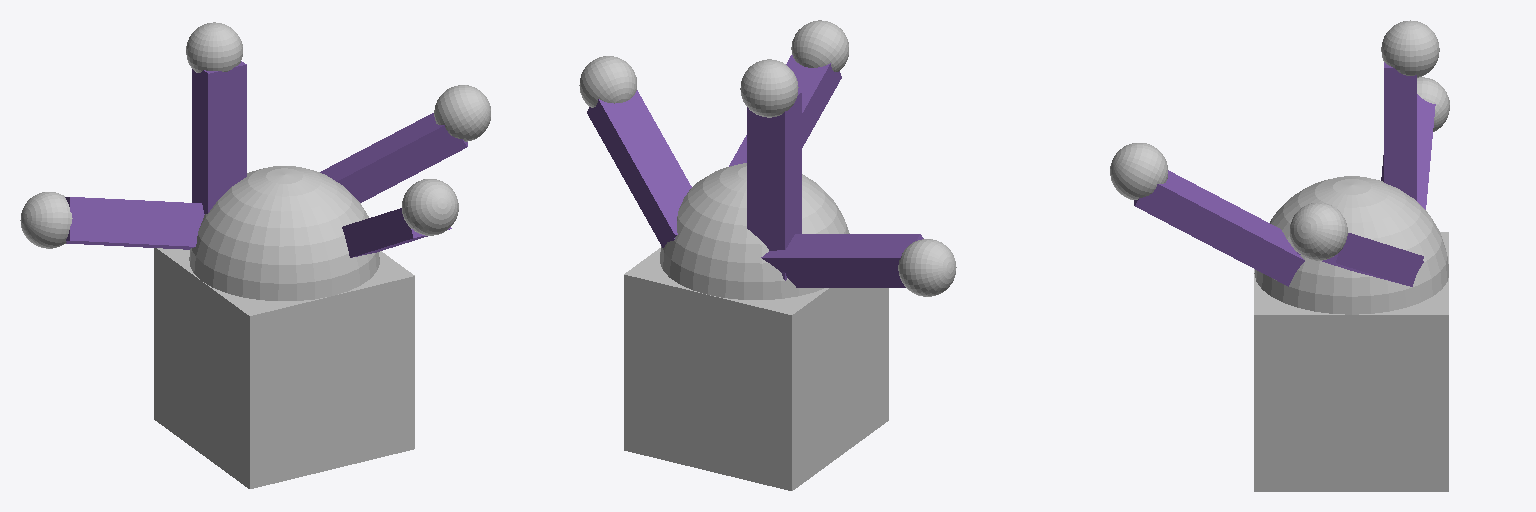
--- Facts derived from the render (not from the file) ---
3 views of the same robot in one strip: view 1: azimuth 30°, elevation 25°; view 2: azimuth 150°, elevation 25°; view 3: azimuth 270°, elevation 25° (orthographic).
Model hand_test with 51 links and 50 joints (40 revolute, 10 fixed), rooted at base_link, posed every joint at zero.
Visible links, largest first — view 1: base_link1, base_link0, Man0_tip, Man2_tip, Man3_tip, Man1_tip, Man1Act0Seg4, Man1Act0Seg6, Man1Act0Seg7, Man1Act0Seg8, Man1Act0Seg5, Man1Act0Seg9 (+14 smaller); view 2: base_link1, base_link0, Man3_tip, Man1_tip, Man2_tip, Man0_tip, Man1Act0Seg4, Man1Act0Seg6, Man1Act0Seg7, Man1Act0Seg3, Man1Act0Seg5, Man1Act0Seg8 (+20 smaller); view 3: base_link1, base_link0, Man2_tip, Man1_tip, Man0_tip, Man3_tip, Man0Act0Seg4, Man0Act0Seg6, Man0Act0Seg3, Man0Act0Seg5, Man0Act0Seg7, Man0Act0Seg8 (+8 smaller).
Link boxes in pixels (left/top/right/bottom): base_link1: left=154, top=248, right=414, bottom=488; base_link0: left=189, top=166, right=379, bottom=300; Man0_tip: left=402, top=179, right=458, bottom=235; Man2_tip: left=434, top=85, right=490, bottom=141; Man3_tip: left=20, top=192, right=72, bottom=248; Man1_tip: left=186, top=22, right=242, bottom=72; Man1Act0Seg4: left=192, top=157, right=246, bottom=185; Man1Act0Seg6: left=192, top=123, right=246, bottom=151; Man1Act0Seg7: left=192, top=105, right=246, bottom=133; Man1Act0Seg8: left=192, top=88, right=246, bottom=116; Man1Act0Seg5: left=192, top=140, right=246, bottom=168; Man1Act0Seg9: left=192, top=71, right=246, bottom=99; base_link1: left=624, top=248, right=888, bottom=490; base_link0: left=660, top=163, right=849, bottom=299; Man3_tip: left=898, top=239, right=956, bottom=296; Man1_tip: left=740, top=59, right=798, bottom=117; Man2_tip: left=579, top=56, right=636, bottom=107; Man0_tip: left=791, top=20, right=848, bottom=71; Man1Act0Seg4: left=747, top=190, right=801, bottom=218; Man1Act0Seg6: left=747, top=154, right=801, bottom=183; Man1Act0Seg7: left=747, top=137, right=801, bottom=165; Man1Act0Seg3: left=747, top=207, right=801, bottom=235; Man1Act0Seg5: left=747, top=172, right=801, bottom=200; Man1Act0Seg8: left=747, top=119, right=801, bottom=147; base_link1: left=1254, top=232, right=1448, bottom=491; base_link0: left=1254, top=176, right=1448, bottom=314; Man2_tip: left=1290, top=202, right=1347, bottom=260; Man1_tip: left=1381, top=20, right=1439, bottom=77; Man0_tip: left=1110, top=143, right=1167, bottom=199; Man3_tip: left=1417, top=77, right=1449, bottom=131; Man0Act0Seg4: left=1228, top=210, right=1260, bottom=262; Man0Act0Seg6: left=1194, top=192, right=1226, bottom=245; Man0Act0Seg3: left=1244, top=219, right=1277, bottom=271; Man0Act0Seg5: left=1211, top=201, right=1243, bottom=254; Man0Act0Seg7: left=1177, top=183, right=1209, bottom=236; Man0Act0Seg8: left=1160, top=175, right=1192, bottom=227.
Size in the robot's own frame: 4.99 by 3.49 by 4.6 metres.
Geometry: primitives only (box / cylinder / sphere), no mesh files.

robot.urdf — hand_test:
<?xml version='1.0' encoding='utf-8'?>
<robot name="hand_test">
  <link name="base_link" />
  <link name="base_link0">
    <visual>
      <origin rpy="0 0 0" xyz="0.5 0.5 1" />
      <geometry>
        <sphere radius="1" />
      </geometry>
      <material name="base_color">
        <color rgba="0.8 0.8 0.8 1" />
      </material>
    </visual>
    <collision>
      <origin rpy="0 0 0" xyz="0.5 0.5 1" />
      <geometry>
        <sphere radius="1" />
      </geometry>
    </collision>
    <inertial>
      <mass value="1.0" />
      <inertia ixx="1" ixy="0" ixz="0" iyy="1" iyz="0" izz="1" />
    </inertial>
  </link>
  <joint name="base_link_to_base_link0_fixed" type="fixed">
    <parent link="base_link" />
    <child link="base_link0" />
    <origin rpy="0 0 0" xyz="0 0 0" />
    <axis xyz="1 0 0" />
  </joint>
  <link name="base_link1">
    <visual>
      <origin rpy="0 0 0" xyz="0.5 0.5 0" />
      <geometry>
        <box size="2 2 2" />
      </geometry>
      <material name="base_color">
        <color rgba="0.8 0.8 0.8 1" />
      </material>
    </visual>
    <collision>
      <origin rpy="0 0 0" xyz="0.5 0.5 0" />
      <geometry>
        <box size="2 2 2" />
      </geometry>
    </collision>
    <inertial>
      <mass value="1.0" />
      <inertia ixx="1" ixy="0" ixz="0" iyy="1" iyz="0" izz="1" />
    </inertial>
  </link>
  <joint name="base_link_to_base_link1_fixed" type="fixed">
    <parent link="base_link" />
    <child link="base_link1" />
    <origin rpy="0 0 0" xyz="0 0 0" />
    <axis xyz="1 0 0" />
  </joint>
  <link name="Man0Act0Seg0">
    <visual>
      <origin rpy="1.0471975511965976 0.0 0.0" xyz="1.0 0.0 1.05" />
      <geometry>
        <box size="0.46 0.34 0.1" />
      </geometry>
      <material name="purple">
        <color rgba="0.537255 0.407843 0.690196 1.0" />
      </material>
    </visual>
    <collision>
      <origin rpy="1.0471975511965976 0.0 0.0" xyz="1.0 0.0 1.05" />
      <geometry>
        <box size="0.46 0.34 0.1" />
      </geometry>
    </collision>
    <inertial>
      <mass value="0.00294" />
      <inertia ixx="0.0152488" ixy="0" ixz="0" iyy="0.0152488" iyz="0" izz="0.0152488" />
    </inertial>
  </link>
  <joint name="base_link_to_Man0Act0Seg0" type="fixed">
    <parent link="base_link" />
    <child link="Man0Act0Seg0" />
    <origin rpy="0.0 0.0 0.0" xyz="0.0 0.0 0.19999999999999996" />
    <axis xyz="1 0 0" />
    <limit effort="100" lower="-3.141592" upper="3.141592" velocity="3" />
  </joint>
  <link name="Man0Act0Seg1">
    <visual>
      <origin rpy="0.0 0.0 0.0" xyz="0.0 0.0 0.1" />
      <geometry>
        <box size="0.46 0.34 0.2" />
      </geometry>
      <material name="purple">
        <color rgba="0.537255 0.407843 0.690196 1.0" />
      </material>
    </visual>
    <collision>
      <origin rpy="0.0 0.0 0.0" xyz="0.0 0.0 0.1" />
      <geometry>
        <box size="0.46 0.34 0.2" />
      </geometry>
    </collision>
    <inertial>
      <mass value="0.00294" />
      <inertia ixx="0.0152488" ixy="0" ixz="0" iyy="0.0152488" iyz="0" izz="0.0152488" />
    </inertial>
  </link>
  <joint name="Man0Act0Seg0_to_Man0Act0Seg1_ax0" type="revolute">
    <parent link="Man0Act0Seg0" />
    <child link="Man0Act0Seg1" />
    <origin rpy="1.0471975511965976 0.0 0.0" xyz="1.0 0.0 1.1" />
    <axis xyz="1 0 0" />
    <limit effort="100" lower="-3.141592" upper="3.141592" velocity="3" />
  </joint>
  <link name="Man0Act0Seg2">
    <visual>
      <origin rpy="0 0 0" xyz="0 0 0.1" />
      <geometry>
        <box size="0.46 0.34 0.2" />
      </geometry>
      <material name="purple">
        <color rgba="0.537255 0.407843 0.690196 1.0" />
      </material>
    </visual>
    <collision>
      <origin rpy="0 0 0" xyz="0 0 0.1" />
      <geometry>
        <box size="0.46 0.34 0.2" />
      </geometry>
    </collision>
    <inertial>
      <mass value="0.00294" />
      <inertia ixx="0.0152488" ixy="0" ixz="0" iyy="0.0152488" iyz="0" izz="0.0152488" />
    </inertial>
  </link>
  <joint name="Man0Act0Seg1_to_Man0Act0Seg2_ax1" type="revolute">
    <parent link="Man0Act0Seg1" />
    <child link="Man0Act0Seg2" />
    <origin rpy="0.0 0.0 0.0" xyz="0.0 0.0 0.2" />
    <axis xyz="0 1 0" />
    <limit effort="100" lower="-3.141592" upper="3.141592" velocity="3" />
  </joint>
  <link name="Man0Act0Seg3">
    <visual>
      <origin rpy="0.0 0.0 0.0" xyz="0.0 0.0 0.1" />
      <geometry>
        <box size="0.46 0.34 0.2" />
      </geometry>
      <material name="purple">
        <color rgba="0.537255 0.407843 0.690196 1.0" />
      </material>
    </visual>
    <collision>
      <origin rpy="0.0 0.0 0.0" xyz="0.0 0.0 0.1" />
      <geometry>
        <box size="0.46 0.34 0.2" />
      </geometry>
    </collision>
    <inertial>
      <mass value="0.00294" />
      <inertia ixx="0.0152488" ixy="0" ixz="0" iyy="0.0152488" iyz="0" izz="0.0152488" />
    </inertial>
  </link>
  <joint name="Man0Act0Seg2_to_Man0Act0Seg3_ax0" type="revolute">
    <parent link="Man0Act0Seg2" />
    <child link="Man0Act0Seg3" />
    <origin rpy="0.0 0.0 0.0" xyz="0.0 0.0 0.2" />
    <axis xyz="1 0 0" />
    <limit effort="100" lower="-3.141592" upper="3.141592" velocity="3" />
  </joint>
  <link name="Man0Act0Seg4">
    <visual>
      <origin rpy="0 0 0" xyz="0 0 0.1" />
      <geometry>
        <box size="0.46 0.34 0.2" />
      </geometry>
      <material name="purple">
        <color rgba="0.537255 0.407843 0.690196 1.0" />
      </material>
    </visual>
    <collision>
      <origin rpy="0 0 0" xyz="0 0 0.1" />
      <geometry>
        <box size="0.46 0.34 0.2" />
      </geometry>
    </collision>
    <inertial>
      <mass value="0.00294" />
      <inertia ixx="0.0152488" ixy="0" ixz="0" iyy="0.0152488" iyz="0" izz="0.0152488" />
    </inertial>
  </link>
  <joint name="Man0Act0Seg3_to_Man0Act0Seg4_ax1" type="revolute">
    <parent link="Man0Act0Seg3" />
    <child link="Man0Act0Seg4" />
    <origin rpy="0.0 0.0 0.0" xyz="0.0 0.0 0.2" />
    <axis xyz="0 1 0" />
    <limit effort="100" lower="-3.141592" upper="3.141592" velocity="3" />
  </joint>
  <link name="Man0Act0Seg5">
    <visual>
      <origin rpy="0.0 0.0 0.0" xyz="0.0 0.0 0.1" />
      <geometry>
        <box size="0.46 0.34 0.2" />
      </geometry>
      <material name="purple">
        <color rgba="0.537255 0.407843 0.690196 1.0" />
      </material>
    </visual>
    <collision>
      <origin rpy="0.0 0.0 0.0" xyz="0.0 0.0 0.1" />
      <geometry>
        <box size="0.46 0.34 0.2" />
      </geometry>
    </collision>
    <inertial>
      <mass value="0.00294" />
      <inertia ixx="0.0152488" ixy="0" ixz="0" iyy="0.0152488" iyz="0" izz="0.0152488" />
    </inertial>
  </link>
  <joint name="Man0Act0Seg4_to_Man0Act0Seg5_ax0" type="revolute">
    <parent link="Man0Act0Seg4" />
    <child link="Man0Act0Seg5" />
    <origin rpy="0.0 0.0 0.0" xyz="0.0 0.0 0.2" />
    <axis xyz="1 0 0" />
    <limit effort="100" lower="-3.141592" upper="3.141592" velocity="3" />
  </joint>
  <link name="Man0Act0Seg6">
    <visual>
      <origin rpy="0 0 0" xyz="0 0 0.1" />
      <geometry>
        <box size="0.46 0.34 0.2" />
      </geometry>
      <material name="purple">
        <color rgba="0.537255 0.407843 0.690196 1.0" />
      </material>
    </visual>
    <collision>
      <origin rpy="0 0 0" xyz="0 0 0.1" />
      <geometry>
        <box size="0.46 0.34 0.2" />
      </geometry>
    </collision>
    <inertial>
      <mass value="0.00294" />
      <inertia ixx="0.0152488" ixy="0" ixz="0" iyy="0.0152488" iyz="0" izz="0.0152488" />
    </inertial>
  </link>
  <joint name="Man0Act0Seg5_to_Man0Act0Seg6_ax1" type="revolute">
    <parent link="Man0Act0Seg5" />
    <child link="Man0Act0Seg6" />
    <origin rpy="0.0 0.0 0.0" xyz="0.0 0.0 0.2" />
    <axis xyz="0 1 0" />
    <limit effort="100" lower="-3.141592" upper="3.141592" velocity="3" />
  </joint>
  <link name="Man0Act0Seg7">
    <visual>
      <origin rpy="0.0 0.0 0.0" xyz="0.0 0.0 0.1" />
      <geometry>
        <box size="0.46 0.34 0.2" />
      </geometry>
      <material name="purple">
        <color rgba="0.537255 0.407843 0.690196 1.0" />
      </material>
    </visual>
    <collision>
      <origin rpy="0.0 0.0 0.0" xyz="0.0 0.0 0.1" />
      <geometry>
        <box size="0.46 0.34 0.2" />
      </geometry>
    </collision>
    <inertial>
      <mass value="0.00294" />
      <inertia ixx="0.0152488" ixy="0" ixz="0" iyy="0.0152488" iyz="0" izz="0.0152488" />
    </inertial>
  </link>
  <joint name="Man0Act0Seg6_to_Man0Act0Seg7_ax0" type="revolute">
    <parent link="Man0Act0Seg6" />
    <child link="Man0Act0Seg7" />
    <origin rpy="0.0 0.0 0.0" xyz="0.0 0.0 0.2" />
    <axis xyz="1 0 0" />
    <limit effort="100" lower="-3.141592" upper="3.141592" velocity="3" />
  </joint>
  <link name="Man0Act0Seg8">
    <visual>
      <origin rpy="0 0 0" xyz="0 0 0.1" />
      <geometry>
        <box size="0.46 0.34 0.2" />
      </geometry>
      <material name="purple">
        <color rgba="0.537255 0.407843 0.690196 1.0" />
      </material>
    </visual>
    <collision>
      <origin rpy="0 0 0" xyz="0 0 0.1" />
      <geometry>
        <box size="0.46 0.34 0.2" />
      </geometry>
    </collision>
    <inertial>
      <mass value="0.00294" />
      <inertia ixx="0.0152488" ixy="0" ixz="0" iyy="0.0152488" iyz="0" izz="0.0152488" />
    </inertial>
  </link>
  <joint name="Man0Act0Seg7_to_Man0Act0Seg8_ax1" type="revolute">
    <parent link="Man0Act0Seg7" />
    <child link="Man0Act0Seg8" />
    <origin rpy="0.0 0.0 0.0" xyz="0.0 0.0 0.2" />
    <axis xyz="0 1 0" />
    <limit effort="100" lower="-3.141592" upper="3.141592" velocity="3" />
  </joint>
  <link name="Man0Act0Seg9">
    <visual>
      <origin rpy="0.0 0.0 0.0" xyz="0.0 0.0 0.1" />
      <geometry>
        <box size="0.46 0.34 0.2" />
      </geometry>
      <material name="purple">
        <color rgba="0.537255 0.407843 0.690196 1.0" />
      </material>
    </visual>
    <collision>
      <origin rpy="0.0 0.0 0.0" xyz="0.0 0.0 0.1" />
      <geometry>
        <box size="0.46 0.34 0.2" />
      </geometry>
    </collision>
    <inertial>
      <mass value="0.00294" />
      <inertia ixx="0.0152488" ixy="0" ixz="0" iyy="0.0152488" iyz="0" izz="0.0152488" />
    </inertial>
  </link>
  <joint name="Man0Act0Seg8_to_Man0Act0Seg9_ax0" type="revolute">
    <parent link="Man0Act0Seg8" />
    <child link="Man0Act0Seg9" />
    <origin rpy="0.0 0.0 0.0" xyz="0.0 0.0 0.2" />
    <axis xyz="1 0 0" />
    <limit effort="100" lower="-3.141592" upper="3.141592" velocity="3" />
  </joint>
  <link name="Man0Act0Seg10">
    <visual>
      <origin rpy="0 0 0" xyz="0 0 0.05" />
      <geometry>
        <box size="0.46 0.34 0.1" />
      </geometry>
      <material name="purple">
        <color rgba="0.537255 0.407843 0.690196 1.0" />
      </material>
    </visual>
    <collision>
      <origin rpy="0 0 0" xyz="0 0 0.05" />
      <geometry>
        <box size="0.46 0.34 0.1" />
      </geometry>
    </collision>
    <inertial>
      <mass value="0.00294" />
      <inertia ixx="0.0152488" ixy="0" ixz="0" iyy="0.0152488" iyz="0" izz="0.0152488" />
    </inertial>
  </link>
  <joint name="Man0Act0Seg9_to_Man0Act0Seg10_ax1" type="revolute">
    <parent link="Man0Act0Seg9" />
    <child link="Man0Act0Seg10" />
    <origin rpy="0.0 0.0 0.0" xyz="0.0 0.0 0.2" />
    <axis xyz="0 1 0" />
    <limit effort="100" lower="-3.141592" upper="3.141592" velocity="3" />
  </joint>
  <link name="Man0_tip">
    <visual>
      <origin rpy="0 0 0" xyz="0 0.1 0.09999999999999998" />
      <geometry>
        <sphere radius="0.3" />
      </geometry>
      <material name="white">
        <color rgba="0.8 0.8 0.8 1.0" />
      </material>
    </visual>
    <collision>
      <origin rpy="0 0 0" xyz="0 0.1 0.09999999999999998" />
      <geometry>
        <sphere radius="0.3" />
      </geometry>
    </collision>
    <inertial>
      <mass value="0.015" />
      <inertia ixx="0.10944" ixy="0" ixz="0" iyy="0.10944" iyz="0" izz="0.10944" />
    </inertial>
  </link>
  <joint name="Man0Act0Seg10_to_Man0_tip" type="fixed">
    <parent link="Man0Act0Seg10" />
    <child link="Man0_tip" />
    <origin rpy="0 0 0" xyz="0 0 0.1" />
    <axis xyz="1 0 0" />
  </joint>
  <link name="Man1Act0Seg0">
    <visual>
      <origin rpy="0.0 0.0 0.0" xyz="0.0 1.0 1.05" />
      <geometry>
        <box size="0.46 0.34 0.1" />
      </geometry>
      <material name="purple">
        <color rgba="0.537255 0.407843 0.690196 1.0" />
      </material>
    </visual>
    <collision>
      <origin rpy="0.0 0.0 0.0" xyz="0.0 1.0 1.05" />
      <geometry>
        <box size="0.46 0.34 0.1" />
      </geometry>
    </collision>
    <inertial>
      <mass value="0.00294" />
      <inertia ixx="0.0152488" ixy="0" ixz="0" iyy="0.0152488" iyz="0" izz="0.0152488" />
    </inertial>
  </link>
  <joint name="base_link_to_Man1Act0Seg0" type="fixed">
    <parent link="base_link" />
    <child link="Man1Act0Seg0" />
    <origin rpy="0.0 0.0 0.0" xyz="0.0 0.0 0.19999999999999996" />
    <axis xyz="1 0 0" />
    <limit effort="100" lower="-3.141592" upper="3.141592" velocity="3" />
  </joint>
  <link name="Man1Act0Seg1">
    <visual>
      <origin rpy="0.0 0.0 0.0" xyz="0.0 0.0 0.1" />
      <geometry>
        <box size="0.46 0.34 0.2" />
      </geometry>
      <material name="purple">
        <color rgba="0.537255 0.407843 0.690196 1.0" />
      </material>
    </visual>
    <collision>
      <origin rpy="0.0 0.0 0.0" xyz="0.0 0.0 0.1" />
      <geometry>
        <box size="0.46 0.34 0.2" />
      </geometry>
    </collision>
    <inertial>
      <mass value="0.00294" />
      <inertia ixx="0.0152488" ixy="0" ixz="0" iyy="0.0152488" iyz="0" izz="0.0152488" />
    </inertial>
  </link>
  <joint name="Man1Act0Seg0_to_Man1Act0Seg1_ax0" type="revolute">
    <parent link="Man1Act0Seg0" />
    <child link="Man1Act0Seg1" />
    <origin rpy="0.0 0.0 0.0" xyz="0.0 1.0 1.1" />
    <axis xyz="1 0 0" />
    <limit effort="100" lower="-3.141592" upper="3.141592" velocity="3" />
  </joint>
  <link name="Man1Act0Seg2">
    <visual>
      <origin rpy="0 0 0" xyz="0 0 0.1" />
      <geometry>
        <box size="0.46 0.34 0.2" />
      </geometry>
      <material name="purple">
        <color rgba="0.537255 0.407843 0.690196 1.0" />
      </material>
    </visual>
    <collision>
      <origin rpy="0 0 0" xyz="0 0 0.1" />
      <geometry>
        <box size="0.46 0.34 0.2" />
      </geometry>
    </collision>
    <inertial>
      <mass value="0.00294" />
      <inertia ixx="0.0152488" ixy="0" ixz="0" iyy="0.0152488" iyz="0" izz="0.0152488" />
    </inertial>
  </link>
  <joint name="Man1Act0Seg1_to_Man1Act0Seg2_ax1" type="revolute">
    <parent link="Man1Act0Seg1" />
    <child link="Man1Act0Seg2" />
    <origin rpy="0.0 0.0 0.0" xyz="0.0 0.0 0.2" />
    <axis xyz="0 1 0" />
    <limit effort="100" lower="-3.141592" upper="3.141592" velocity="3" />
  </joint>
  <link name="Man1Act0Seg3">
    <visual>
      <origin rpy="0.0 0.0 0.0" xyz="0.0 0.0 0.1" />
      <geometry>
        <box size="0.46 0.34 0.2" />
      </geometry>
      <material name="purple">
        <color rgba="0.537255 0.407843 0.690196 1.0" />
      </material>
    </visual>
    <collision>
      <origin rpy="0.0 0.0 0.0" xyz="0.0 0.0 0.1" />
      <geometry>
        <box size="0.46 0.34 0.2" />
      </geometry>
    </collision>
    <inertial>
      <mass value="0.00294" />
      <inertia ixx="0.0152488" ixy="0" ixz="0" iyy="0.0152488" iyz="0" izz="0.0152488" />
    </inertial>
  </link>
  <joint name="Man1Act0Seg2_to_Man1Act0Seg3_ax0" type="revolute">
    <parent link="Man1Act0Seg2" />
    <child link="Man1Act0Seg3" />
    <origin rpy="0.0 0.0 0.0" xyz="0.0 0.0 0.2" />
    <axis xyz="1 0 0" />
    <limit effort="100" lower="-3.141592" upper="3.141592" velocity="3" />
  </joint>
  <link name="Man1Act0Seg4">
    <visual>
      <origin rpy="0 0 0" xyz="0 0 0.1" />
      <geometry>
        <box size="0.46 0.34 0.2" />
      </geometry>
      <material name="purple">
        <color rgba="0.537255 0.407843 0.690196 1.0" />
      </material>
    </visual>
    <collision>
      <origin rpy="0 0 0" xyz="0 0 0.1" />
      <geometry>
        <box size="0.46 0.34 0.2" />
      </geometry>
    </collision>
    <inertial>
      <mass value="0.00294" />
      <inertia ixx="0.0152488" ixy="0" ixz="0" iyy="0.0152488" iyz="0" izz="0.0152488" />
    </inertial>
  </link>
  <joint name="Man1Act0Seg3_to_Man1Act0Seg4_ax1" type="revolute">
    <parent link="Man1Act0Seg3" />
    <child link="Man1Act0Seg4" />
    <origin rpy="0.0 0.0 0.0" xyz="0.0 0.0 0.2" />
    <axis xyz="0 1 0" />
    <limit effort="100" lower="-3.141592" upper="3.141592" velocity="3" />
  </joint>
  <link name="Man1Act0Seg5">
    <visual>
      <origin rpy="0.0 0.0 0.0" xyz="0.0 0.0 0.1" />
      <geometry>
        <box size="0.46 0.34 0.2" />
      </geometry>
      <material name="purple">
        <color rgba="0.537255 0.407843 0.690196 1.0" />
      </material>
    </visual>
    <collision>
      <origin rpy="0.0 0.0 0.0" xyz="0.0 0.0 0.1" />
      <geometry>
        <box size="0.46 0.34 0.2" />
      </geometry>
    </collision>
    <inertial>
      <mass value="0.00294" />
      <inertia ixx="0.0152488" ixy="0" ixz="0" iyy="0.0152488" iyz="0" izz="0.0152488" />
    </inertial>
  </link>
  <joint name="Man1Act0Seg4_to_Man1Act0Seg5_ax0" type="revolute">
    <parent link="Man1Act0Seg4" />
    <child link="Man1Act0Seg5" />
    <origin rpy="0.0 0.0 0.0" xyz="0.0 0.0 0.2" />
    <axis xyz="1 0 0" />
    <limit effort="100" lower="-3.141592" upper="3.141592" velocity="3" />
  </joint>
  <link name="Man1Act0Seg6">
    <visual>
      <origin rpy="0 0 0" xyz="0 0 0.1" />
      <geometry>
        <box size="0.46 0.34 0.2" />
      </geometry>
      <material name="purple">
        <color rgba="0.537255 0.407843 0.690196 1.0" />
      </material>
    </visual>
    <collision>
      <origin rpy="0 0 0" xyz="0 0 0.1" />
      <geometry>
        <box size="0.46 0.34 0.2" />
      </geometry>
    </collision>
    <inertial>
      <mass value="0.00294" />
      <inertia ixx="0.0152488" ixy="0" ixz="0" iyy="0.0152488" iyz="0" izz="0.0152488" />
    </inertial>
  </link>
  <joint name="Man1Act0Seg5_to_Man1Act0Seg6_ax1" type="revolute">
    <parent link="Man1Act0Seg5" />
    <child link="Man1Act0Seg6" />
    <origin rpy="0.0 0.0 0.0" xyz="0.0 0.0 0.2" />
    <axis xyz="0 1 0" />
    <limit effort="100" lower="-3.141592" upper="3.141592" velocity="3" />
  </joint>
  <link name="Man1Act0Seg7">
    <visual>
      <origin rpy="0.0 0.0 0.0" xyz="0.0 0.0 0.1" />
      <geometry>
        <box size="0.46 0.34 0.2" />
      </geometry>
      <material name="purple">
        <color rgba="0.537255 0.407843 0.690196 1.0" />
      </material>
    </visual>
    <collision>
      <origin rpy="0.0 0.0 0.0" xyz="0.0 0.0 0.1" />
      <geometry>
        <box size="0.46 0.34 0.2" />
      </geometry>
    </collision>
    <inertial>
      <mass value="0.00294" />
      <inertia ixx="0.0152488" ixy="0" ixz="0" iyy="0.0152488" iyz="0" izz="0.0152488" />
    </inertial>
  </link>
  <joint name="Man1Act0Seg6_to_Man1Act0Seg7_ax0" type="revolute">
    <parent link="Man1Act0Seg6" />
    <child link="Man1Act0Seg7" />
    <origin rpy="0.0 0.0 0.0" xyz="0.0 0.0 0.2" />
    <axis xyz="1 0 0" />
    <limit effort="100" lower="-3.141592" upper="3.141592" velocity="3" />
  </joint>
  <link name="Man1Act0Seg8">
    <visual>
      <origin rpy="0 0 0" xyz="0 0 0.1" />
      <geometry>
        <box size="0.46 0.34 0.2" />
      </geometry>
      <material name="purple">
        <color rgba="0.537255 0.407843 0.690196 1.0" />
      </material>
    </visual>
    <collision>
      <origin rpy="0 0 0" xyz="0 0 0.1" />
      <geometry>
        <box size="0.46 0.34 0.2" />
      </geometry>
    </collision>
    <inertial>
      <mass value="0.00294" />
      <inertia ixx="0.0152488" ixy="0" ixz="0" iyy="0.0152488" iyz="0" izz="0.0152488" />
    </inertial>
  </link>
  <joint name="Man1Act0Seg7_to_Man1Act0Seg8_ax1" type="revolute">
    <parent link="Man1Act0Seg7" />
    <child link="Man1Act0Seg8" />
    <origin rpy="0.0 0.0 0.0" xyz="0.0 0.0 0.2" />
    <axis xyz="0 1 0" />
    <limit effort="100" lower="-3.141592" upper="3.141592" velocity="3" />
  </joint>
  <link name="Man1Act0Seg9">
    <visual>
      <origin rpy="0.0 0.0 0.0" xyz="0.0 0.0 0.1" />
      <geometry>
        <box size="0.46 0.34 0.2" />
      </geometry>
      <material name="purple">
        <color rgba="0.537255 0.407843 0.690196 1.0" />
      </material>
    </visual>
    <collision>
      <origin rpy="0.0 0.0 0.0" xyz="0.0 0.0 0.1" />
      <geometry>
        <box size="0.46 0.34 0.2" />
      </geometry>
    </collision>
    <inertial>
      <mass value="0.00294" />
      <inertia ixx="0.0152488" ixy="0" ixz="0" iyy="0.0152488" iyz="0" izz="0.0152488" />
    </inertial>
  </link>
  <joint name="Man1Act0Seg8_to_Man1Act0Seg9_ax0" type="revolute">
    <parent link="Man1Act0Seg8" />
    <child link="Man1Act0Seg9" />
    <origin rpy="0.0 0.0 0.0" xyz="0.0 0.0 0.2" />
    <axis xyz="1 0 0" />
    <limit effort="100" lower="-3.141592" upper="3.141592" velocity="3" />
  </joint>
  <link name="Man1Act0Seg10">
    <visual>
      <origin rpy="0 0 0" xyz="0 0 0.05" />
      <geometry>
        <box size="0.46 0.34 0.1" />
      </geometry>
      <material name="purple">
        <color rgba="0.537255 0.407843 0.690196 1.0" />
      </material>
    </visual>
    <collision>
      <origin rpy="0 0 0" xyz="0 0 0.05" />
      <geometry>
        <box size="0.46 0.34 0.1" />
      </geometry>
    </collision>
    <inertial>
      <mass value="0.00294" />
      <inertia ixx="0.0152488" ixy="0" ixz="0" iyy="0.0152488" iyz="0" izz="0.0152488" />
    </inertial>
  </link>
  <joint name="Man1Act0Seg9_to_Man1Act0Seg10_ax1" type="revolute">
    <parent link="Man1Act0Seg9" />
    <child link="Man1Act0Seg10" />
    <origin rpy="0.0 0.0 0.0" xyz="0.0 0.0 0.2" />
    <axis xyz="0 1 0" />
    <limit effort="100" lower="-3.141592" upper="3.141592" velocity="3" />
  </joint>
  <link name="Man1_tip">
    <visual>
      <origin rpy="0 0 0" xyz="0 0.1 0.09999999999999998" />
      <geometry>
        <sphere radius="0.3" />
      </geometry>
      <material name="white">
        <color rgba="0.8 0.8 0.8 1.0" />
      </material>
    </visual>
    <collision>
      <origin rpy="0 0 0" xyz="0 0.1 0.09999999999999998" />
      <geometry>
        <sphere radius="0.3" />
      </geometry>
    </collision>
    <inertial>
      <mass value="0.015" />
      <inertia ixx="0.10944" ixy="0" ixz="0" iyy="0.10944" iyz="0" izz="0.10944" />
    </inertial>
  </link>
  <joint name="Man1Act0Seg10_to_Man1_tip" type="fixed">
    <parent link="Man1Act0Seg10" />
    <child link="Man1_tip" />
    <origin rpy="0 0 0" xyz="0 0 0.1" />
    <axis xyz="1 0 0" />
  </joint>
  <link name="Man2Act0Seg0">
    <visual>
      <origin rpy="1.0471975511965976 0.0 1.0471975511965976" xyz="1.0 1.0 1.05" />
      <geometry>
        <box size="0.46 0.34 0.1" />
      </geometry>
      <material name="purple">
        <color rgba="0.537255 0.407843 0.690196 1.0" />
      </material>
    </visual>
    <collision>
      <origin rpy="1.0471975511965976 0.0 1.0471975511965976" xyz="1.0 1.0 1.05" />
      <geometry>
        <box size="0.46 0.34 0.1" />
      </geometry>
    </collision>
    <inertial>
      <mass value="0.00294" />
      <inertia ixx="0.0152488" ixy="0" ixz="0" iyy="0.0152488" iyz="0" izz="0.0152488" />
    </inertial>
  </link>
  <joint name="base_link_to_Man2Act0Seg0" type="fixed">
    <parent link="base_link" />
    <child link="Man2Act0Seg0" />
    <origin rpy="0.0 0.0 0.0" xyz="0.0 0.0 0.19999999999999996" />
    <axis xyz="1 0 0" />
    <limit effort="100" lower="-3.141592" upper="3.141592" velocity="3" />
  </joint>
  <link name="Man2Act0Seg1">
    <visual>
      <origin rpy="0.0 0.0 0.0" xyz="0.0 0.0 0.1" />
      <geometry>
        <box size="0.46 0.34 0.2" />
      </geometry>
      <material name="purple">
        <color rgba="0.537255 0.407843 0.690196 1.0" />
      </material>
    </visual>
    <collision>
      <origin rpy="0.0 0.0 0.0" xyz="0.0 0.0 0.1" />
      <geometry>
        <box size="0.46 0.34 0.2" />
      </geometry>
    </collision>
    <inertial>
      <mass value="0.00294" />
      <inertia ixx="0.0152488" ixy="0" ixz="0" iyy="0.0152488" iyz="0" izz="0.0152488" />
    </inertial>
  </link>
  <joint name="Man2Act0Seg0_to_Man2Act0Seg1_ax0" type="revolute">
    <parent link="Man2Act0Seg0" />
    <child link="Man2Act0Seg1" />
    <origin rpy="1.0471975511965976 0.0 1.0471975511965976" xyz="1.0 1.0 1.1" />
    <axis xyz="1 0 0" />
    <limit effort="100" lower="-3.141592" upper="3.141592" velocity="3" />
  </joint>
  <link name="Man2Act0Seg2">
    <visual>
      <origin rpy="0 0 0" xyz="0 0 0.1" />
      <geometry>
        <box size="0.46 0.34 0.2" />
      </geometry>
      <material name="purple">
        <color rgba="0.537255 0.407843 0.690196 1.0" />
      </material>
    </visual>
    <collision>
      <origin rpy="0 0 0" xyz="0 0 0.1" />
      <geometry>
        <box size="0.46 0.34 0.2" />
      </geometry>
    </collision>
    <inertial>
      <mass value="0.00294" />
      <inertia ixx="0.0152488" ixy="0" ixz="0" iyy="0.0152488" iyz="0" izz="0.0152488" />
    </inertial>
  </link>
  <joint name="Man2Act0Seg1_to_Man2Act0Seg2_ax1" type="revolute">
    <parent link="Man2Act0Seg1" />
    <child link="Man2Act0Seg2" />
    <origin rpy="0.0 0.0 0.0" xyz="0.0 0.0 0.2" />
    <axis xyz="0 1 0" />
    <limit effort="100" lower="-3.141592" upper="3.141592" velocity="3" />
  </joint>
  <link name="Man2Act0Seg3">
    <visual>
      <origin rpy="0.0 0.0 0.0" xyz="0.0 0.0 0.1" />
      <geometry>
        <box size="0.46 0.34 0.2" />
      </geometry>
      <material name="purple">
        <color rgba="0.537255 0.407843 0.690196 1.0" />
      </material>
    </visual>
    <collision>
      <origin rpy="0.0 0.0 0.0" xyz="0.0 0.0 0.1" />
      <geometry>
        <box size="0.46 0.34 0.2" />
      </geometry>
    </collision>
    <inertial>
      <mass value="0.00294" />
      <inertia ixx="0.0152488" ixy="0" ixz="0" iyy="0.0152488" iyz="0" izz="0.0152488" />
    </inertial>
  </link>
  <joint name="Man2Act0Seg2_to_Man2Act0Seg3_ax0" type="revolute">
    <parent link="Man2Act0Seg2" />
    <child link="Man2Act0Seg3" />
    <origin rpy="0.0 0.0 0.0" xyz="0.0 0.0 0.2" />
    <axis xyz="1 0 0" />
    <limit effort="100" lower="-3.141592" upper="3.141592" velocity="3" />
  </joint>
  <link name="Man2Act0Seg4">
    <visual>
      <origin rpy="0 0 0" xyz="0 0 0.1" />
      <geometry>
        <box size="0.46 0.34 0.2" />
      </geometry>
      <material name="purple">
        <color rgba="0.537255 0.407843 0.690196 1.0" />
      </material>
    </visual>
    <collision>
      <origin rpy="0 0 0" xyz="0 0 0.1" />
      <geometry>
        <box size="0.46 0.34 0.2" />
      </geometry>
    </collision>
    <inertial>
      <mass value="0.00294" />
      <inertia ixx="0.0152488" ixy="0" ixz="0" iyy="0.0152488" iyz="0" izz="0.0152488" />
    </inertial>
  </link>
  <joint name="Man2Act0Seg3_to_Man2Act0Seg4_ax1" type="revolute">
    <parent link="Man2Act0Seg3" />
    <child link="Man2Act0Seg4" />
    <origin rpy="0.0 0.0 0.0" xyz="0.0 0.0 0.2" />
    <axis xyz="0 1 0" />
    <limit effort="100" lower="-3.141592" upper="3.141592" velocity="3" />
  </joint>
  <link name="Man2Act0Seg5">
    <visual>
      <origin rpy="0.0 0.0 0.0" xyz="0.0 0.0 0.1" />
      <geometry>
        <box size="0.46 0.34 0.2" />
      </geometry>
      <material name="purple">
        <color rgba="0.537255 0.407843 0.690196 1.0" />
      </material>
    </visual>
    <collision>
      <origin rpy="0.0 0.0 0.0" xyz="0.0 0.0 0.1" />
      <geometry>
        <box size="0.46 0.34 0.2" />
      </geometry>
    </collision>
    <inertial>
      <mass value="0.00294" />
      <inertia ixx="0.0152488" ixy="0" ixz="0" iyy="0.0152488" iyz="0" izz="0.0152488" />
    </inertial>
  </link>
  <joint name="Man2Act0Seg4_to_Man2Act0Seg5_ax0" type="revolute">
    <parent link="Man2Act0Seg4" />
    <child link="Man2Act0Seg5" />
    <origin rpy="0.0 0.0 0.0" xyz="0.0 0.0 0.2" />
    <axis xyz="1 0 0" />
    <limit effort="100" lower="-3.141592" upper="3.141592" velocity="3" />
  </joint>
  <link name="Man2Act0Seg6">
    <visual>
      <origin rpy="0 0 0" xyz="0 0 0.1" />
      <geometry>
        <box size="0.46 0.34 0.2" />
      </geometry>
      <material name="purple">
        <color rgba="0.537255 0.407843 0.690196 1.0" />
      </material>
    </visual>
    <collision>
      <origin rpy="0 0 0" xyz="0 0 0.1" />
      <geometry>
        <box size="0.46 0.34 0.2" />
      </geometry>
    </collision>
    <inertial>
      <mass value="0.00294" />
      <inertia ixx="0.0152488" ixy="0" ixz="0" iyy="0.0152488" iyz="0" izz="0.0152488" />
    </inertial>
  </link>
  <joint name="Man2Act0Seg5_to_Man2Act0Seg6_ax1" type="revolute">
    <parent link="Man2Act0Seg5" />
    <child link="Man2Act0Seg6" />
    <origin rpy="0.0 0.0 0.0" xyz="0.0 0.0 0.2" />
    <axis xyz="0 1 0" />
    <limit effort="100" lower="-3.141592" upper="3.141592" velocity="3" />
  </joint>
  <link name="Man2Act0Seg7">
    <visual>
      <origin rpy="0.0 0.0 0.0" xyz="0.0 0.0 0.1" />
      <geometry>
        <box size="0.46 0.34 0.2" />
      </geometry>
      <material name="purple">
        <color rgba="0.537255 0.407843 0.690196 1.0" />
      </material>
    </visual>
    <collision>
      <origin rpy="0.0 0.0 0.0" xyz="0.0 0.0 0.1" />
      <geometry>
        <box size="0.46 0.34 0.2" />
      </geometry>
    </collision>
    <inertial>
      <mass value="0.00294" />
      <inertia ixx="0.0152488" ixy="0" ixz="0" iyy="0.0152488" iyz="0" izz="0.0152488" />
    </inertial>
  </link>
  <joint name="Man2Act0Seg6_to_Man2Act0Seg7_ax0" type="revolute">
    <parent link="Man2Act0Seg6" />
    <child link="Man2Act0Seg7" />
    <origin rpy="0.0 0.0 0.0" xyz="0.0 0.0 0.2" />
    <axis xyz="1 0 0" />
    <limit effort="100" lower="-3.141592" upper="3.141592" velocity="3" />
  </joint>
  <link name="Man2Act0Seg8">
    <visual>
      <origin rpy="0 0 0" xyz="0 0 0.1" />
      <geometry>
        <box size="0.46 0.34 0.2" />
      </geometry>
      <material name="purple">
        <color rgba="0.537255 0.407843 0.690196 1.0" />
      </material>
    </visual>
    <collision>
      <origin rpy="0 0 0" xyz="0 0 0.1" />
      <geometry>
        <box size="0.46 0.34 0.2" />
      </geometry>
    </collision>
    <inertial>
      <mass value="0.00294" />
      <inertia ixx="0.0152488" ixy="0" ixz="0" iyy="0.0152488" iyz="0" izz="0.0152488" />
    </inertial>
  </link>
  <joint name="Man2Act0Seg7_to_Man2Act0Seg8_ax1" type="revolute">
    <parent link="Man2Act0Seg7" />
    <child link="Man2Act0Seg8" />
    <origin rpy="0.0 0.0 0.0" xyz="0.0 0.0 0.2" />
    <axis xyz="0 1 0" />
    <limit effort="100" lower="-3.141592" upper="3.141592" velocity="3" />
  </joint>
  <link name="Man2Act0Seg9">
    <visual>
      <origin rpy="0.0 0.0 0.0" xyz="0.0 0.0 0.1" />
      <geometry>
        <box size="0.46 0.34 0.2" />
      </geometry>
      <material name="purple">
        <color rgba="0.537255 0.407843 0.690196 1.0" />
      </material>
    </visual>
    <collision>
      <origin rpy="0.0 0.0 0.0" xyz="0.0 0.0 0.1" />
      <geometry>
        <box size="0.46 0.34 0.2" />
      </geometry>
    </collision>
    <inertial>
      <mass value="0.00294" />
      <inertia ixx="0.0152488" ixy="0" ixz="0" iyy="0.0152488" iyz="0" izz="0.0152488" />
    </inertial>
  </link>
  <joint name="Man2Act0Seg8_to_Man2Act0Seg9_ax0" type="revolute">
    <parent link="Man2Act0Seg8" />
    <child link="Man2Act0Seg9" />
    <origin rpy="0.0 0.0 0.0" xyz="0.0 0.0 0.2" />
    <axis xyz="1 0 0" />
    <limit effort="100" lower="-3.141592" upper="3.141592" velocity="3" />
  </joint>
  <link name="Man2Act0Seg10">
    <visual>
      <origin rpy="0 0 0" xyz="0 0 0.05" />
      <geometry>
        <box size="0.46 0.34 0.1" />
      </geometry>
      <material name="purple">
        <color rgba="0.537255 0.407843 0.690196 1.0" />
      </material>
    </visual>
    <collision>
      <origin rpy="0 0 0" xyz="0 0 0.05" />
      <geometry>
        <box size="0.46 0.34 0.1" />
      </geometry>
    </collision>
    <inertial>
      <mass value="0.00294" />
      <inertia ixx="0.0152488" ixy="0" ixz="0" iyy="0.0152488" iyz="0" izz="0.0152488" />
    </inertial>
  </link>
  <joint name="Man2Act0Seg9_to_Man2Act0Seg10_ax1" type="revolute">
    <parent link="Man2Act0Seg9" />
    <child link="Man2Act0Seg10" />
    <origin rpy="0.0 0.0 0.0" xyz="0.0 0.0 0.2" />
    <axis xyz="0 1 0" />
    <limit effort="100" lower="-3.141592" upper="3.141592" velocity="3" />
  </joint>
  <link name="Man2_tip">
    <visual>
      <origin rpy="0 0 0" xyz="0 0.1 0.09999999999999998" />
      <geometry>
        <sphere radius="0.3" />
      </geometry>
      <material name="white">
        <color rgba="0.8 0.8 0.8 1.0" />
      </material>
    </visual>
    <collision>
      <origin rpy="0 0 0" xyz="0 0.1 0.09999999999999998" />
      <geometry>
        <sphere radius="0.3" />
      </geometry>
    </collision>
    <inertial>
      <mass value="0.015" />
      <inertia ixx="0.10944" ixy="0" ixz="0" iyy="0.10944" iyz="0" izz="0.10944" />
    </inertial>
  </link>
  <joint name="Man2Act0Seg10_to_Man2_tip" type="fixed">
    <parent link="Man2Act0Seg10" />
    <child link="Man2_tip" />
    <origin rpy="0 0 0" xyz="0 0 0.1" />
    <axis xyz="1 0 0" />
  </joint>
  <link name="Man3Act0Seg0">
    <visual>
      <origin rpy="-1.0471975511965976 -1.0471975511965976 1.0471975511965976" xyz="0.0 1.0 1.05" />
      <geometry>
        <box size="0.46 0.34 0.1" />
      </geometry>
      <material name="purple">
        <color rgba="0.537255 0.407843 0.690196 1.0" />
      </material>
    </visual>
    <collision>
      <origin rpy="-1.0471975511965976 -1.0471975511965976 1.0471975511965976" xyz="0.0 1.0 1.05" />
      <geometry>
        <box size="0.46 0.34 0.1" />
      </geometry>
    </collision>
    <inertial>
      <mass value="0.00294" />
      <inertia ixx="0.0152488" ixy="0" ixz="0" iyy="0.0152488" iyz="0" izz="0.0152488" />
    </inertial>
  </link>
  <joint name="base_link_to_Man3Act0Seg0" type="fixed">
    <parent link="base_link" />
    <child link="Man3Act0Seg0" />
    <origin rpy="0.0 0.0 0.0" xyz="0.0 0.0 0.19999999999999996" />
    <axis xyz="1 0 0" />
    <limit effort="100" lower="-3.141592" upper="3.141592" velocity="3" />
  </joint>
  <link name="Man3Act0Seg1">
    <visual>
      <origin rpy="0.0 0.0 0.0" xyz="0.0 0.0 0.1" />
      <geometry>
        <box size="0.46 0.34 0.2" />
      </geometry>
      <material name="purple">
        <color rgba="0.537255 0.407843 0.690196 1.0" />
      </material>
    </visual>
    <collision>
      <origin rpy="0.0 0.0 0.0" xyz="0.0 0.0 0.1" />
      <geometry>
        <box size="0.46 0.34 0.2" />
      </geometry>
    </collision>
    <inertial>
      <mass value="0.00294" />
      <inertia ixx="0.0152488" ixy="0" ixz="0" iyy="0.0152488" iyz="0" izz="0.0152488" />
    </inertial>
  </link>
  <joint name="Man3Act0Seg0_to_Man3Act0Seg1_ax0" type="revolute">
    <parent link="Man3Act0Seg0" />
    <child link="Man3Act0Seg1" />
    <origin rpy="-1.0471975511965976 -1.0471975511965976 1.0471975511965976" xyz="0.0 1.0 1.1" />
    <axis xyz="1 0 0" />
    <limit effort="100" lower="-3.141592" upper="3.141592" velocity="3" />
  </joint>
  <link name="Man3Act0Seg2">
    <visual>
      <origin rpy="0 0 0" xyz="0 0 0.1" />
      <geometry>
        <box size="0.46 0.34 0.2" />
      </geometry>
      <material name="purple">
        <color rgba="0.537255 0.407843 0.690196 1.0" />
      </material>
    </visual>
    <collision>
      <origin rpy="0 0 0" xyz="0 0 0.1" />
      <geometry>
        <box size="0.46 0.34 0.2" />
      </geometry>
    </collision>
    <inertial>
      <mass value="0.00294" />
      <inertia ixx="0.0152488" ixy="0" ixz="0" iyy="0.0152488" iyz="0" izz="0.0152488" />
    </inertial>
  </link>
  <joint name="Man3Act0Seg1_to_Man3Act0Seg2_ax1" type="revolute">
    <parent link="Man3Act0Seg1" />
    <child link="Man3Act0Seg2" />
    <origin rpy="0.0 0.0 0.0" xyz="0.0 0.0 0.2" />
    <axis xyz="0 1 0" />
    <limit effort="100" lower="-3.141592" upper="3.141592" velocity="3" />
  </joint>
  <link name="Man3Act0Seg3">
    <visual>
      <origin rpy="0.0 0.0 0.0" xyz="0.0 0.0 0.1" />
      <geometry>
        <box size="0.46 0.34 0.2" />
      </geometry>
      <material name="purple">
        <color rgba="0.537255 0.407843 0.690196 1.0" />
      </material>
    </visual>
    <collision>
      <origin rpy="0.0 0.0 0.0" xyz="0.0 0.0 0.1" />
      <geometry>
        <box size="0.46 0.34 0.2" />
      </geometry>
    </collision>
    <inertial>
      <mass value="0.00294" />
      <inertia ixx="0.0152488" ixy="0" ixz="0" iyy="0.0152488" iyz="0" izz="0.0152488" />
    </inertial>
  </link>
  <joint name="Man3Act0Seg2_to_Man3Act0Seg3_ax0" type="revolute">
    <parent link="Man3Act0Seg2" />
    <child link="Man3Act0Seg3" />
    <origin rpy="0.0 0.0 0.0" xyz="0.0 0.0 0.2" />
    <axis xyz="1 0 0" />
    <limit effort="100" lower="-3.141592" upper="3.141592" velocity="3" />
  </joint>
  <link name="Man3Act0Seg4">
    <visual>
      <origin rpy="0 0 0" xyz="0 0 0.1" />
      <geometry>
        <box size="0.46 0.34 0.2" />
      </geometry>
      <material name="purple">
        <color rgba="0.537255 0.407843 0.690196 1.0" />
      </material>
    </visual>
    <collision>
      <origin rpy="0 0 0" xyz="0 0 0.1" />
      <geometry>
        <box size="0.46 0.34 0.2" />
      </geometry>
    </collision>
    <inertial>
      <mass value="0.00294" />
      <inertia ixx="0.0152488" ixy="0" ixz="0" iyy="0.0152488" iyz="0" izz="0.0152488" />
    </inertial>
  </link>
  <joint name="Man3Act0Seg3_to_Man3Act0Seg4_ax1" type="revolute">
    <parent link="Man3Act0Seg3" />
    <child link="Man3Act0Seg4" />
    <origin rpy="0.0 0.0 0.0" xyz="0.0 0.0 0.2" />
    <axis xyz="0 1 0" />
    <limit effort="100" lower="-3.141592" upper="3.141592" velocity="3" />
  </joint>
  <link name="Man3Act0Seg5">
    <visual>
      <origin rpy="0.0 0.0 0.0" xyz="0.0 0.0 0.1" />
      <geometry>
        <box size="0.46 0.34 0.2" />
      </geometry>
      <material name="purple">
        <color rgba="0.537255 0.407843 0.690196 1.0" />
      </material>
    </visual>
    <collision>
      <origin rpy="0.0 0.0 0.0" xyz="0.0 0.0 0.1" />
      <geometry>
        <box size="0.46 0.34 0.2" />
      </geometry>
    </collision>
    <inertial>
      <mass value="0.00294" />
      <inertia ixx="0.0152488" ixy="0" ixz="0" iyy="0.0152488" iyz="0" izz="0.0152488" />
    </inertial>
  </link>
  <joint name="Man3Act0Seg4_to_Man3Act0Seg5_ax0" type="revolute">
    <parent link="Man3Act0Seg4" />
    <child link="Man3Act0Seg5" />
    <origin rpy="0.0 0.0 0.0" xyz="0.0 0.0 0.2" />
    <axis xyz="1 0 0" />
    <limit effort="100" lower="-3.141592" upper="3.141592" velocity="3" />
  </joint>
  <link name="Man3Act0Seg6">
    <visual>
      <origin rpy="0 0 0" xyz="0 0 0.1" />
      <geometry>
        <box size="0.46 0.34 0.2" />
      </geometry>
      <material name="purple">
        <color rgba="0.537255 0.407843 0.690196 1.0" />
      </material>
    </visual>
    <collision>
      <origin rpy="0 0 0" xyz="0 0 0.1" />
      <geometry>
        <box size="0.46 0.34 0.2" />
      </geometry>
    </collision>
    <inertial>
      <mass value="0.00294" />
      <inertia ixx="0.0152488" ixy="0" ixz="0" iyy="0.0152488" iyz="0" izz="0.0152488" />
    </inertial>
  </link>
  <joint name="Man3Act0Seg5_to_Man3Act0Seg6_ax1" type="revolute">
    <parent link="Man3Act0Seg5" />
    <child link="Man3Act0Seg6" />
    <origin rpy="0.0 0.0 0.0" xyz="0.0 0.0 0.2" />
    <axis xyz="0 1 0" />
    <limit effort="100" lower="-3.141592" upper="3.141592" velocity="3" />
  </joint>
  <link name="Man3Act0Seg7">
    <visual>
      <origin rpy="0.0 0.0 0.0" xyz="0.0 0.0 0.1" />
      <geometry>
        <box size="0.46 0.34 0.2" />
      </geometry>
      <material name="purple">
        <color rgba="0.537255 0.407843 0.690196 1.0" />
      </material>
    </visual>
    <collision>
      <origin rpy="0.0 0.0 0.0" xyz="0.0 0.0 0.1" />
      <geometry>
        <box size="0.46 0.34 0.2" />
      </geometry>
    </collision>
    <inertial>
      <mass value="0.00294" />
      <inertia ixx="0.0152488" ixy="0" ixz="0" iyy="0.0152488" iyz="0" izz="0.0152488" />
    </inertial>
  </link>
  <joint name="Man3Act0Seg6_to_Man3Act0Seg7_ax0" type="revolute">
    <parent link="Man3Act0Seg6" />
    <child link="Man3Act0Seg7" />
    <origin rpy="0.0 0.0 0.0" xyz="0.0 0.0 0.2" />
    <axis xyz="1 0 0" />
    <limit effort="100" lower="-3.141592" upper="3.141592" velocity="3" />
  </joint>
  <link name="Man3Act0Seg8">
    <visual>
      <origin rpy="0 0 0" xyz="0 0 0.1" />
      <geometry>
        <box size="0.46 0.34 0.2" />
      </geometry>
      <material name="purple">
        <color rgba="0.537255 0.407843 0.690196 1.0" />
      </material>
    </visual>
    <collision>
      <origin rpy="0 0 0" xyz="0 0 0.1" />
      <geometry>
        <box size="0.46 0.34 0.2" />
      </geometry>
    </collision>
    <inertial>
      <mass value="0.00294" />
      <inertia ixx="0.0152488" ixy="0" ixz="0" iyy="0.0152488" iyz="0" izz="0.0152488" />
    </inertial>
  </link>
  <joint name="Man3Act0Seg7_to_Man3Act0Seg8_ax1" type="revolute">
    <parent link="Man3Act0Seg7" />
    <child link="Man3Act0Seg8" />
    <origin rpy="0.0 0.0 0.0" xyz="0.0 0.0 0.2" />
    <axis xyz="0 1 0" />
    <limit effort="100" lower="-3.141592" upper="3.141592" velocity="3" />
  </joint>
  <link name="Man3Act0Seg9">
    <visual>
      <origin rpy="0.0 0.0 0.0" xyz="0.0 0.0 0.1" />
      <geometry>
        <box size="0.46 0.34 0.2" />
      </geometry>
      <material name="purple">
        <color rgba="0.537255 0.407843 0.690196 1.0" />
      </material>
    </visual>
    <collision>
      <origin rpy="0.0 0.0 0.0" xyz="0.0 0.0 0.1" />
      <geometry>
        <box size="0.46 0.34 0.2" />
      </geometry>
    </collision>
    <inertial>
      <mass value="0.00294" />
      <inertia ixx="0.0152488" ixy="0" ixz="0" iyy="0.0152488" iyz="0" izz="0.0152488" />
    </inertial>
  </link>
  <joint name="Man3Act0Seg8_to_Man3Act0Seg9_ax0" type="revolute">
    <parent link="Man3Act0Seg8" />
    <child link="Man3Act0Seg9" />
    <origin rpy="0.0 0.0 0.0" xyz="0.0 0.0 0.2" />
    <axis xyz="1 0 0" />
    <limit effort="100" lower="-3.141592" upper="3.141592" velocity="3" />
  </joint>
  <link name="Man3Act0Seg10">
    <visual>
      <origin rpy="0 0 0" xyz="0 0 0.05" />
      <geometry>
        <box size="0.46 0.34 0.1" />
      </geometry>
      <material name="purple">
        <color rgba="0.537255 0.407843 0.690196 1.0" />
      </material>
    </visual>
    <collision>
      <origin rpy="0 0 0" xyz="0 0 0.05" />
      <geometry>
        <box size="0.46 0.34 0.1" />
      </geometry>
    </collision>
    <inertial>
      <mass value="0.00294" />
      <inertia ixx="0.0152488" ixy="0" ixz="0" iyy="0.0152488" iyz="0" izz="0.0152488" />
    </inertial>
  </link>
  <joint name="Man3Act0Seg9_to_Man3Act0Seg10_ax1" type="revolute">
    <parent link="Man3Act0Seg9" />
    <child link="Man3Act0Seg10" />
    <origin rpy="0.0 0.0 0.0" xyz="0.0 0.0 0.2" />
    <axis xyz="0 1 0" />
    <limit effort="100" lower="-3.141592" upper="3.141592" velocity="3" />
  </joint>
  <link name="Man3_tip">
    <visual>
      <origin rpy="0 0 0" xyz="0 0.1 0.09999999999999998" />
      <geometry>
        <sphere radius="0.3" />
      </geometry>
      <material name="white">
        <color rgba="0.8 0.8 0.8 1.0" />
      </material>
    </visual>
    <collision>
      <origin rpy="0 0 0" xyz="0 0.1 0.09999999999999998" />
      <geometry>
        <sphere radius="0.3" />
      </geometry>
    </collision>
    <inertial>
      <mass value="0.015" />
      <inertia ixx="0.10944" ixy="0" ixz="0" iyy="0.10944" iyz="0" izz="0.10944" />
    </inertial>
  </link>
  <joint name="Man3Act0Seg10_to_Man3_tip" type="fixed">
    <parent link="Man3Act0Seg10" />
    <child link="Man3_tip" />
    <origin rpy="0 0 0" xyz="0 0 0.1" />
    <axis xyz="1 0 0" />
  </joint>
</robot>
